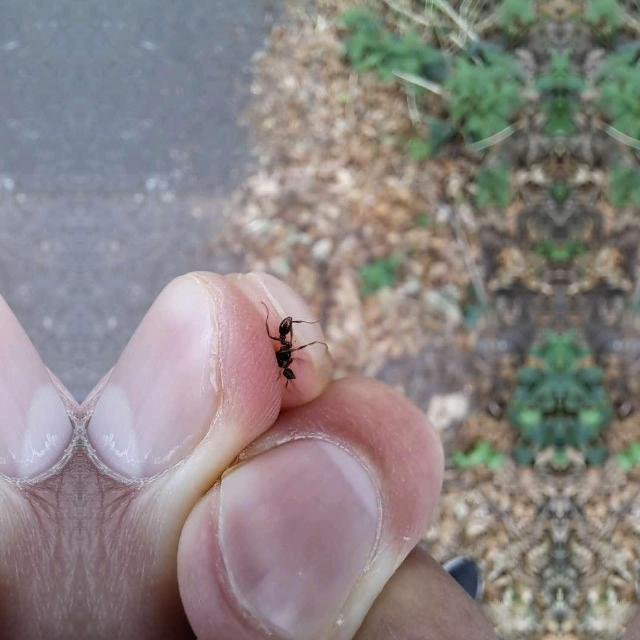Myrmica: (254, 300, 332, 388)
